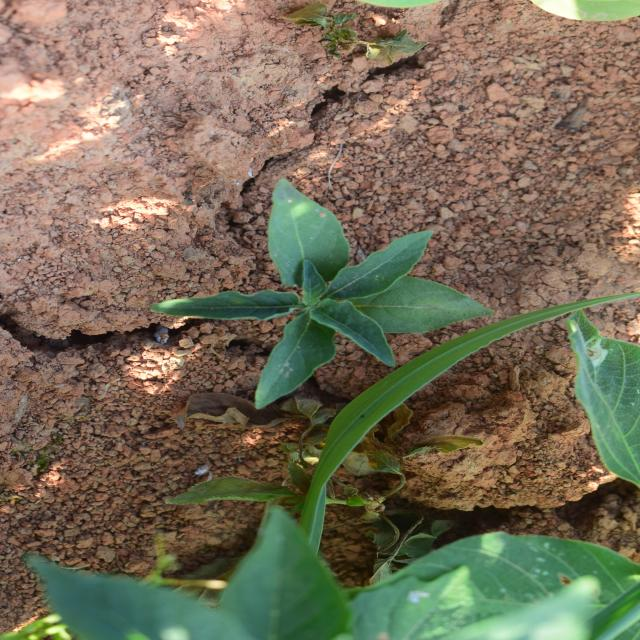Black_nightshade: (186, 166, 398, 470)
